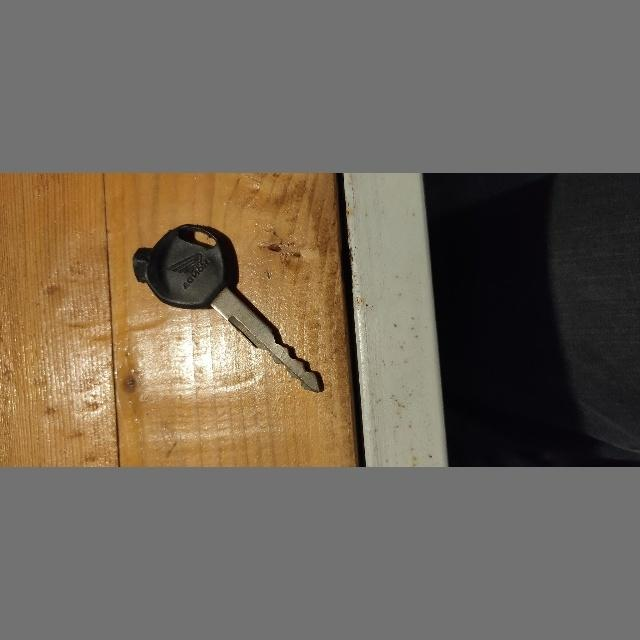Keys: (131, 221, 325, 397)
